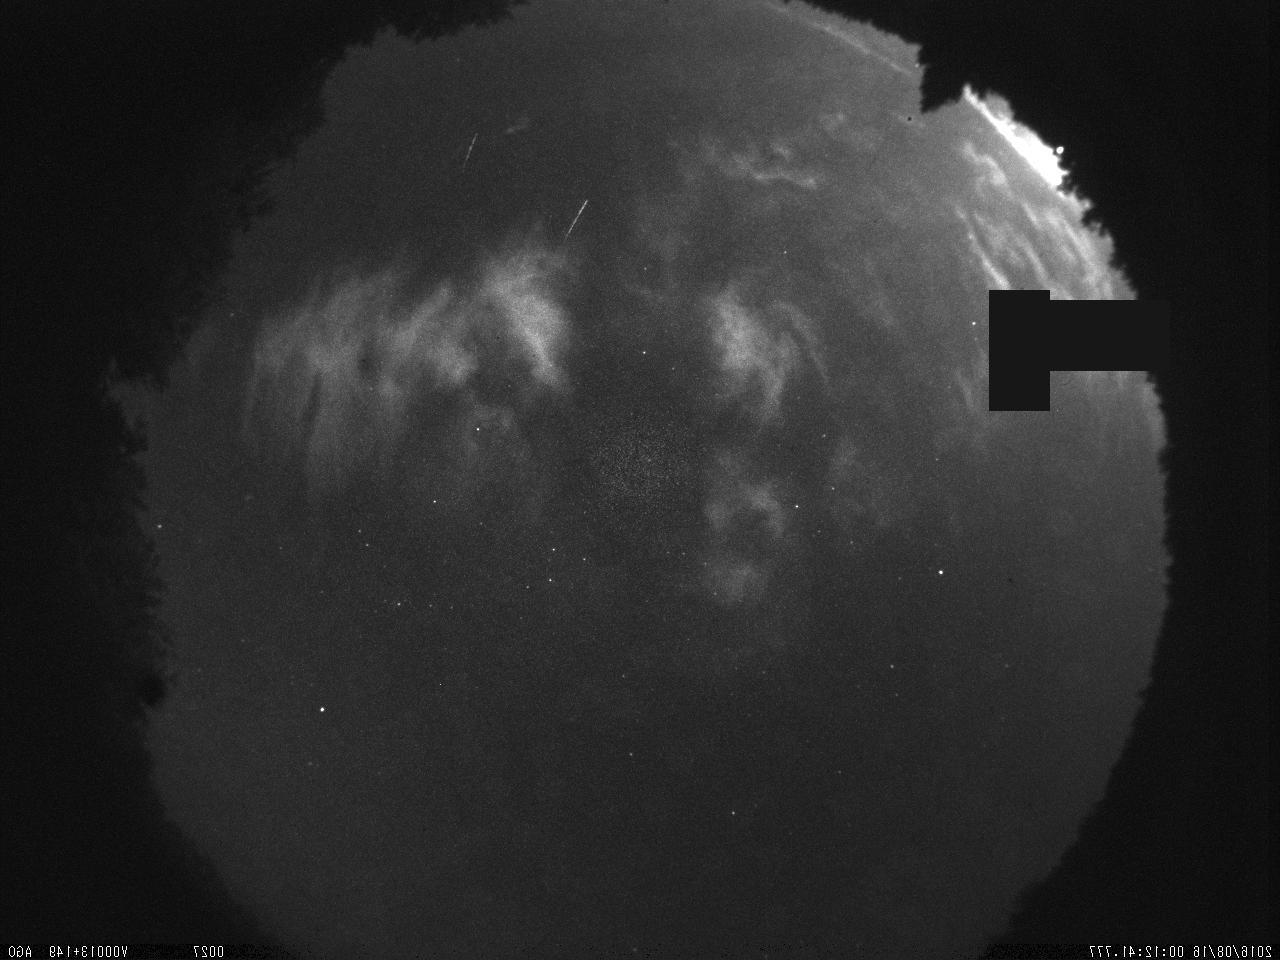meteor: (552, 196, 593, 250), (454, 126, 486, 178)
